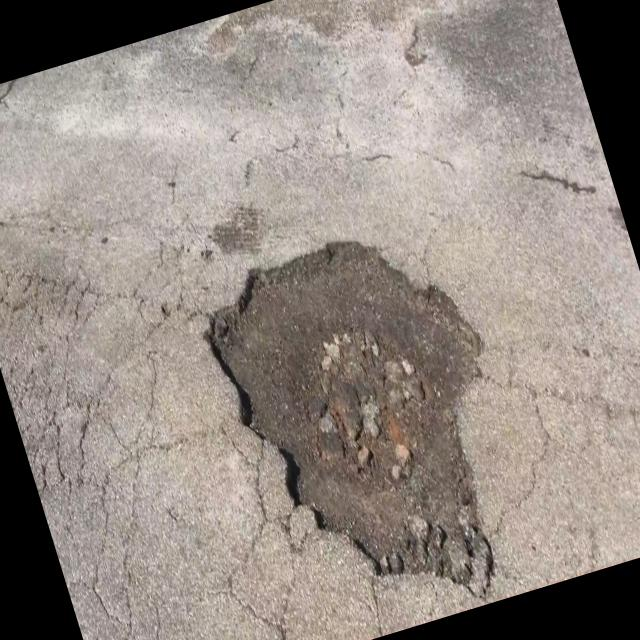Potholes: (131, 133, 570, 640)
